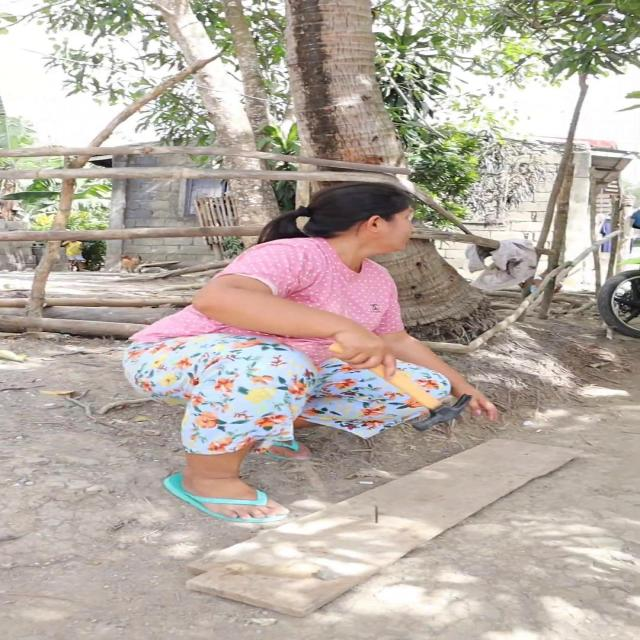hammer: (329, 341, 473, 432)
